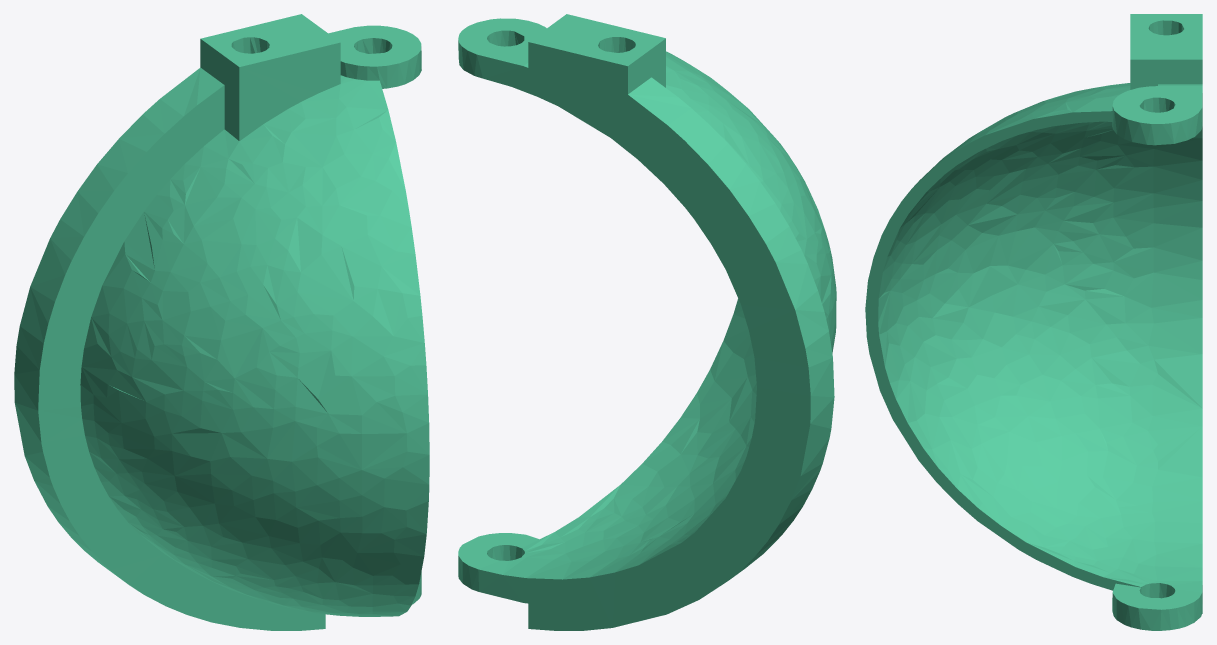
The model's file is i02_head_left_top_eyelid_visual.obj.
3 views of the same model, side by side, from view 1: azimuth 30°, elevation 25°; view 2: azimuth 150°, elevation 25°; view 3: azimuth 270°, elevation 25° (orthographic). The views are drawn at different scales.
Parts seen in each view (by area): view 1: i02_head_left_top_eyelid_visual.001; view 2: i02_head_left_top_eyelid_visual.001; view 3: i02_head_left_top_eyelid_visual.001.
Part boxes in pixels (x1,y1,x2,y2): i02_head_left_top_eyelid_visual.001: (14, 14, 429, 630); i02_head_left_top_eyelid_visual.001: (458, 14, 836, 630); i02_head_left_top_eyelid_visual.001: (865, 14, 1202, 630).
Bounding box in the file's own units: 0.2107 × 0.3191 × 0.1761.
